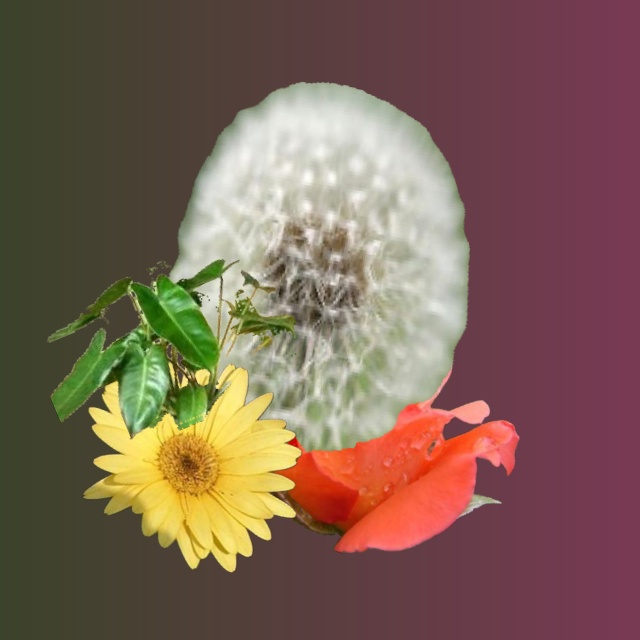daisy: (83, 352, 301, 572)
dandelion: (169, 82, 469, 451)
rose: (220, 320, 519, 552)
ylang-ylang: (48, 259, 296, 438)
